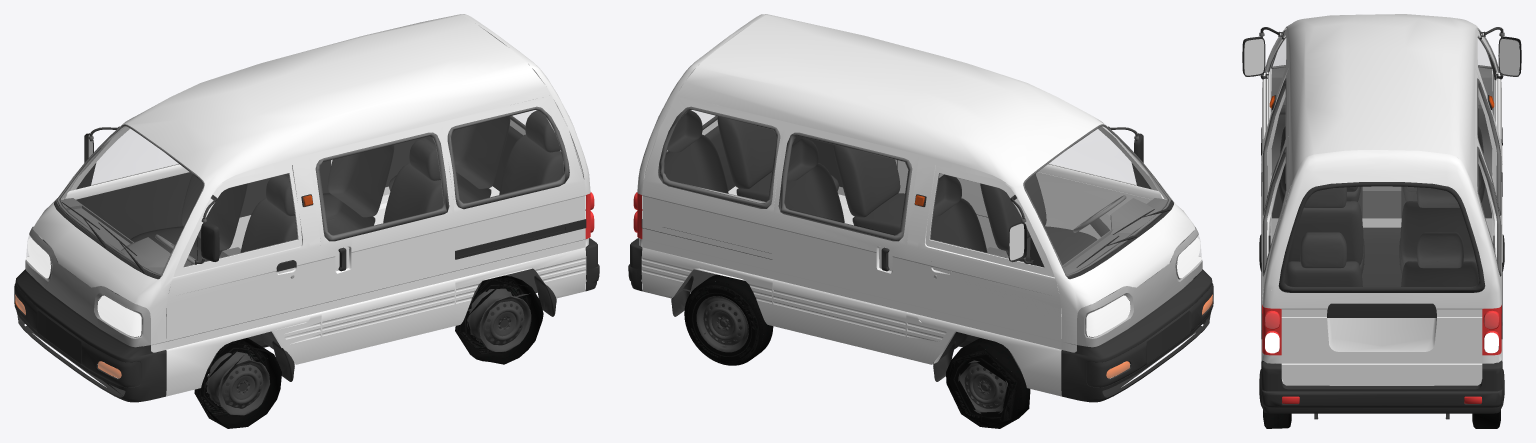
File: damas.glb
3 renders of one model, left to right at view 1: azimuth 30°, elevation 25°; view 2: azimuth 150°, elevation 25°; view 3: azimuth 270°, elevation 25°, orthographic. The views are drawn at different scales.
Visible parts, largest first — view 1: Object_13, Object_12, Object_17, Object_15, Object_19, Object_14, Object_22, Object_11, Object_21, Object_27, Object_25, Object_18 (+2 smaller); view 2: Object_13, Object_12, Object_17, Object_15, Object_19, Object_11, Object_22, Object_21, Object_18, Object_25, Object_23, Object_27 (+3 smaller); view 3: Object_13, Object_12, Object_17, Object_15, Object_19, Object_22, Object_14, Object_18, Object_2, Object_3, Object_23, Object_11 (+2 smaller).
Boxes of the visible parts, left/top/right/bottom form: Object_13: left=33, top=14, right=588, bottom=364; Object_12: left=64, top=14, right=590, bottom=396; Object_17: left=26, top=110, right=563, bottom=336; Object_15: left=130, top=110, right=563, bottom=264; Object_19: left=14, top=115, right=599, bottom=402; Object_14: left=76, top=125, right=563, bottom=239; Object_22: left=28, top=106, right=569, bottom=337; Object_11: left=194, top=275, right=543, bottom=428; Object_21: left=25, top=226, right=294, bottom=347; Object_27: left=205, top=197, right=531, bottom=415; Object_25: left=220, top=301, right=524, bottom=408; Object_18: left=34, top=198, right=240, bottom=346; Object_13: left=639, top=14, right=1195, bottom=364; Object_12: left=637, top=14, right=1163, bottom=396; Object_17: left=664, top=110, right=1201, bottom=336; Object_15: left=664, top=110, right=1097, bottom=265; Object_19: left=628, top=116, right=1213, bottom=402; Object_11: left=684, top=274, right=1030, bottom=428; Object_22: left=658, top=106, right=1199, bottom=337; Object_21: left=934, top=227, right=1202, bottom=347; Object_18: left=987, top=195, right=1193, bottom=343; Object_25: left=703, top=300, right=1005, bottom=408; Object_23: left=642, top=196, right=1212, bottom=378; Object_27: left=696, top=197, right=1013, bottom=413; Object_13: left=1261, top=14, right=1502, bottom=385; Object_12: left=1261, top=29, right=1502, bottom=384; Object_17: left=1266, top=38, right=1497, bottom=286; Object_15: left=1279, top=126, right=1484, bottom=286; Object_19: left=1242, top=36, right=1521, bottom=413; Object_22: left=1259, top=32, right=1504, bottom=276; Object_14: left=1267, top=166, right=1496, bottom=286; Object_18: left=1271, top=67, right=1492, bottom=217; Object_2: left=1244, top=38, right=1519, bottom=75; Object_3: left=1262, top=305, right=1501, bottom=403; Object_23: left=1265, top=312, right=1498, bottom=353; Object_11: left=1263, top=361, right=1500, bottom=428.
Size of what is drawn, in the model's own units: 8.64 by 4.78 by 4.04.
15 materials, 1 textured.
